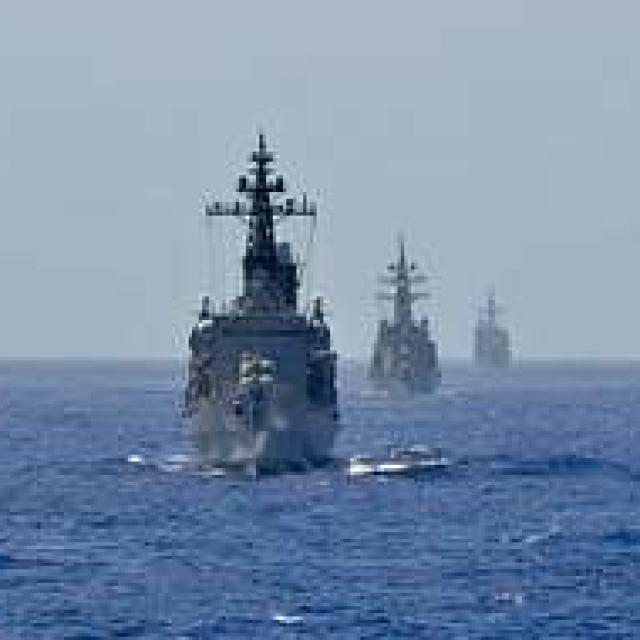navalvessels: (153, 145, 362, 460), (372, 227, 463, 407), (476, 284, 520, 376)
